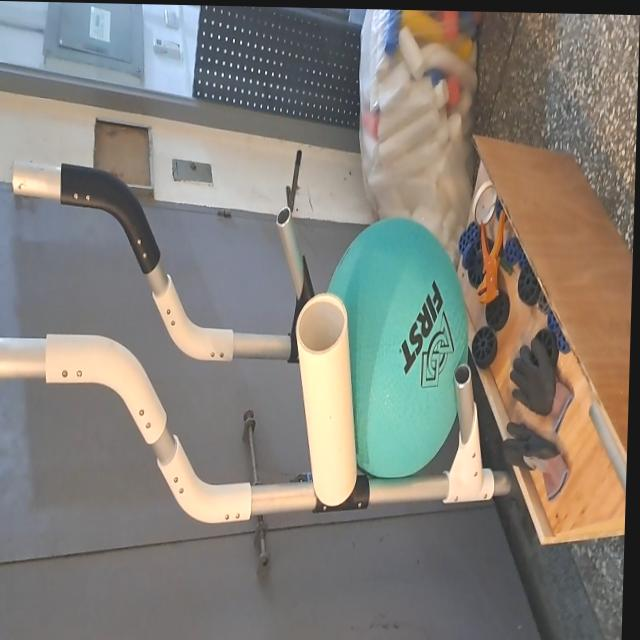ALGAE: (317, 209, 474, 485)
CORAL: (286, 288, 363, 506)
